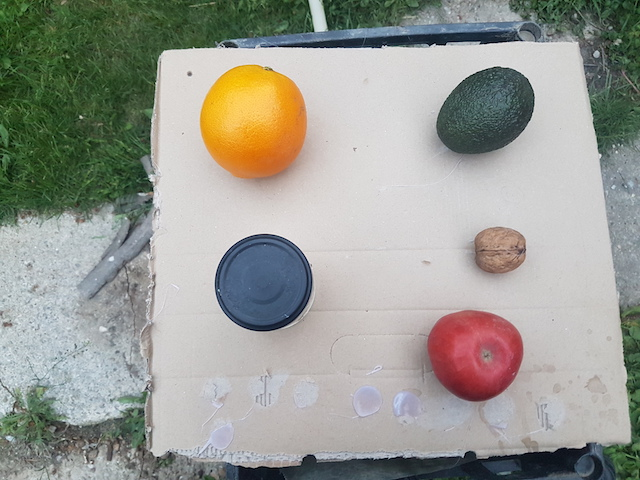apple: (420, 307, 527, 403)
avocado: (436, 64, 539, 156)
nut: (470, 227, 527, 273)
orange: (194, 63, 312, 185)
recipient: (211, 233, 313, 331)
